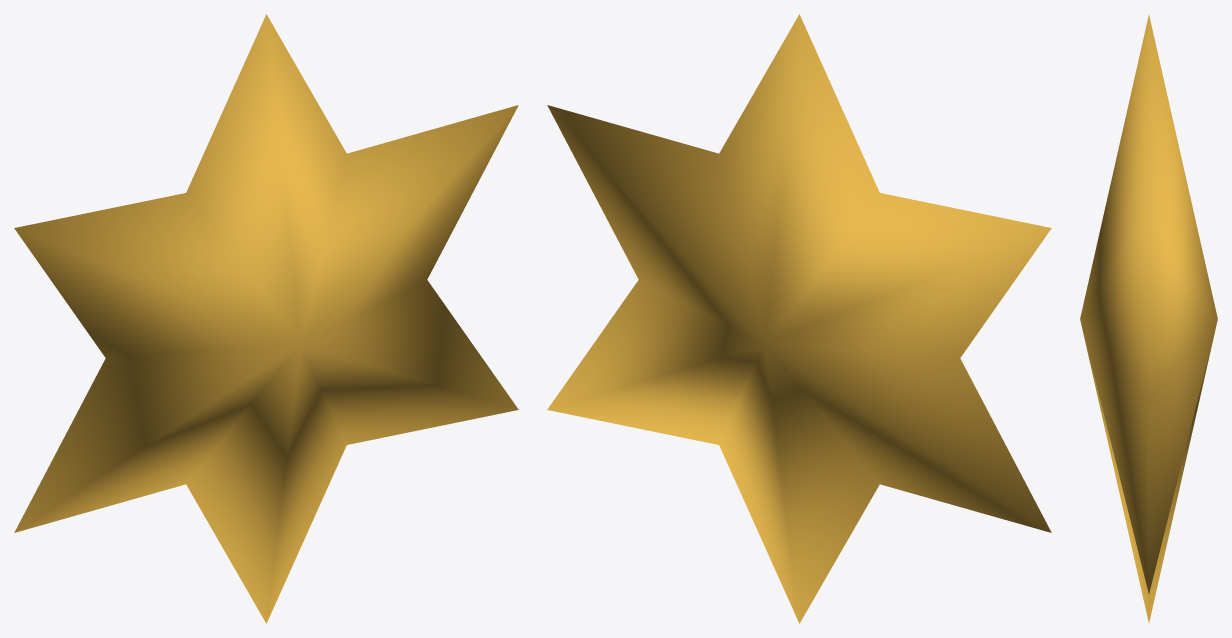
3 views of the same model, side by side, from view 1: azimuth 30°, elevation 25°; view 2: azimuth 150°, elevation 25°; view 3: azimuth 270°, elevation 25° (orthographic).
Parts seen in each view (by area): view 1: Star001; view 2: Star001; view 3: Star001.
Boxes of the visible parts, x1,y1,x2,y2 form: Star001: (14,14,518,623); Star001: (547,14,1051,623); Star001: (1080,15,1217,622).
Size of the model in its own units: 58.69 by 67.77 by 13.88.
